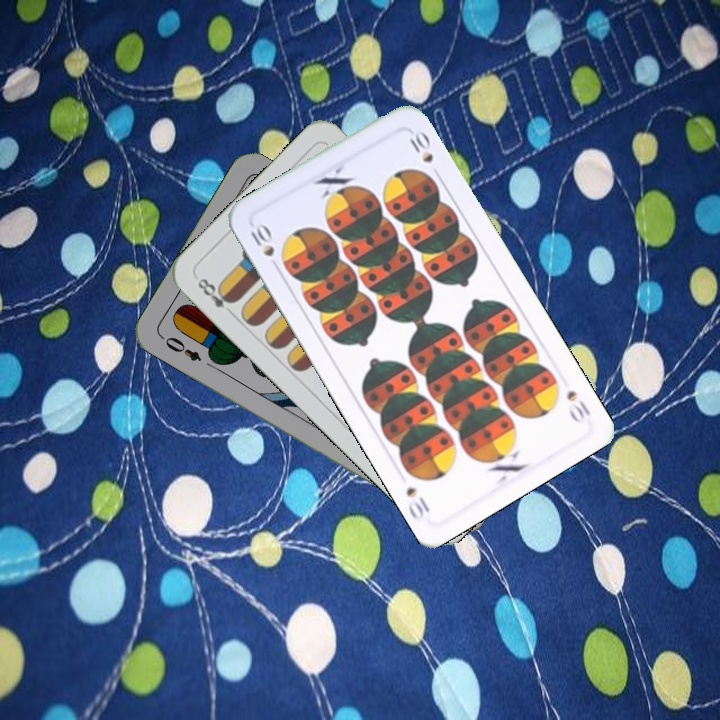E8: (193, 274, 238, 319)
EO: (156, 332, 204, 364)
S10: (246, 219, 283, 274), (562, 386, 593, 426)
